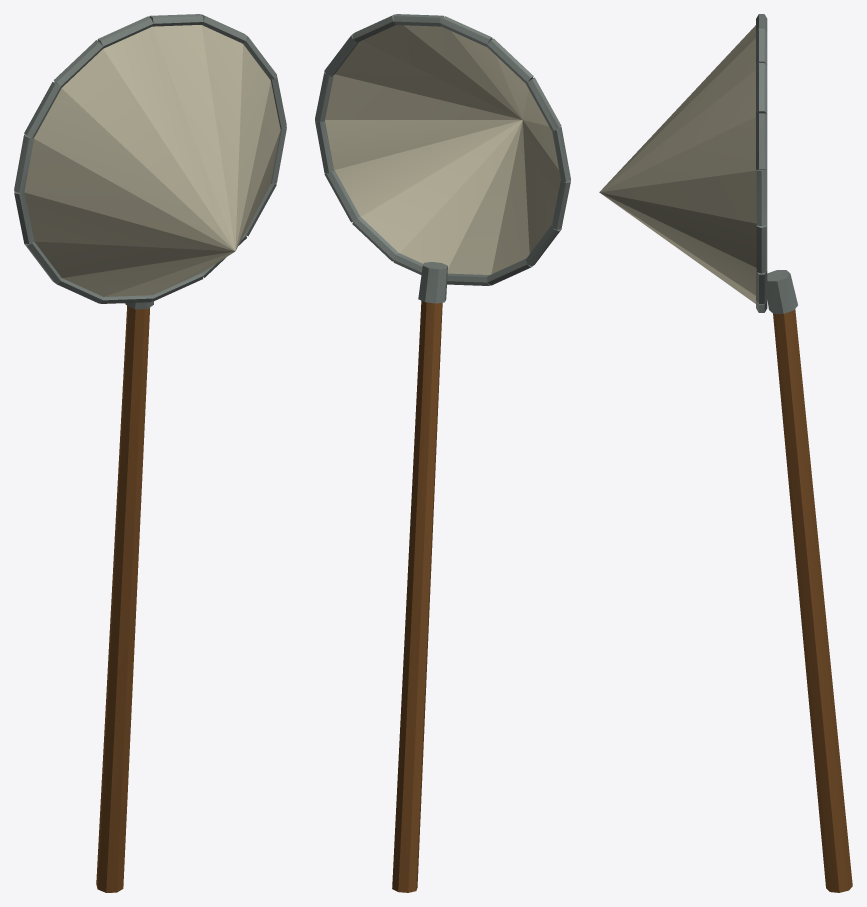
Rendered from cricket_net.glb.
3 renders of one model, left to right at view 1: azimuth 30°, elevation 25°; view 2: azimuth 150°, elevation 25°; view 3: azimuth 270°, elevation 25°, orthographic. The views are drawn at different scales.
Visible parts, largest first — view 1: CricketNet_Mesh; view 2: CricketNet_Mesh; view 3: CricketNet_Mesh.
Part boxes in pixels (x1=…): CricketNet_Mesh: x1=14, y1=14, x2=286, y2=892; CricketNet_Mesh: x1=315, y1=14, x2=570, y2=892; CricketNet_Mesh: x1=599, y1=14, x2=852, y2=892.
Bounding box in the file's own units: 0.4257 × 1.34 × 0.3589.
